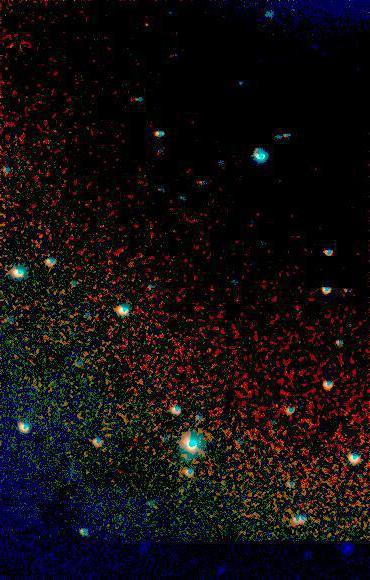star: (280, 0, 310, 26)
